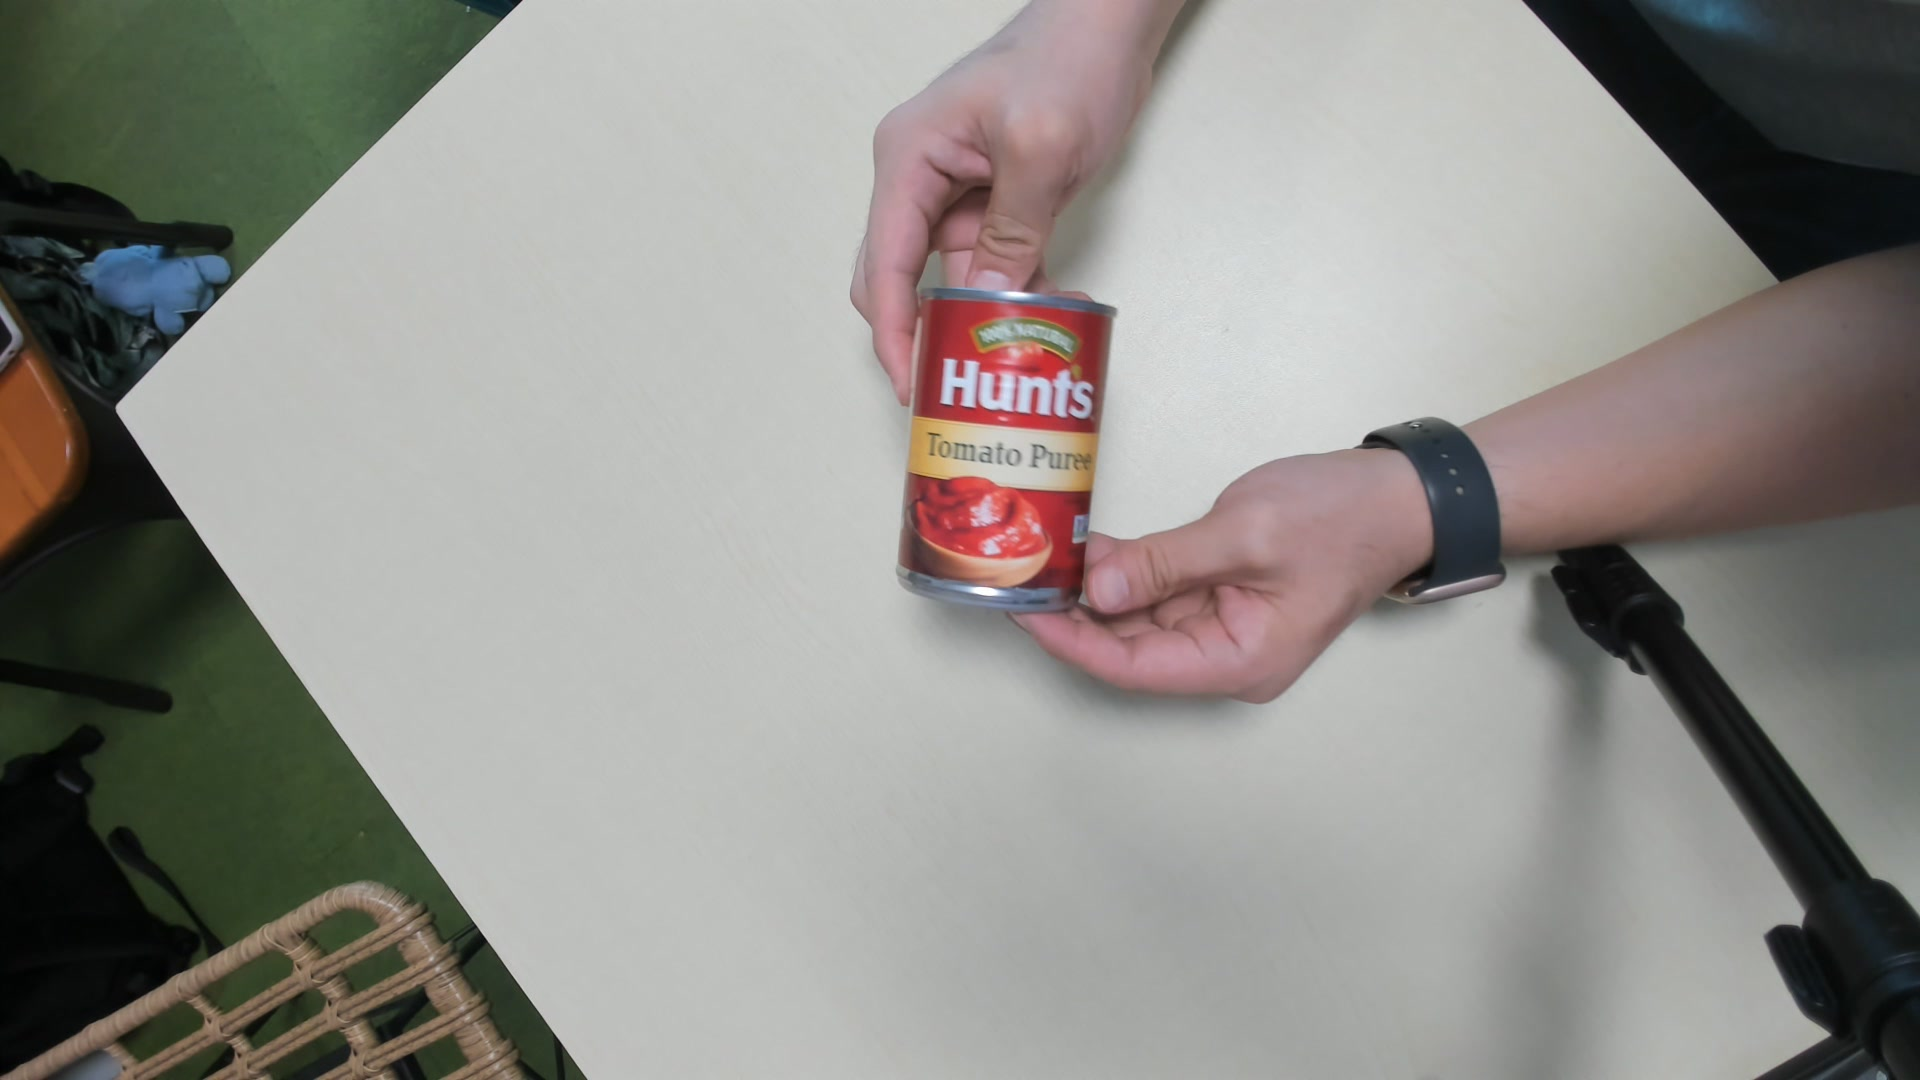OtherSauceDressing_300-399g_NonHalal_NonHealthy: (885, 280, 1110, 612)
